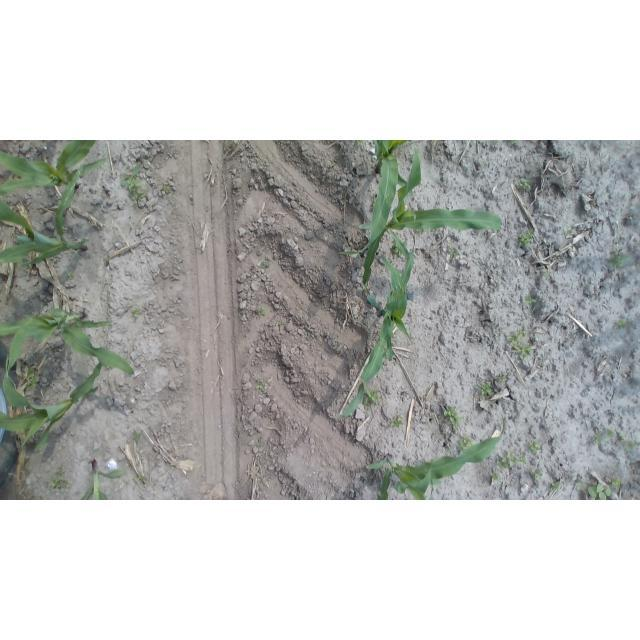Maize: (337, 145, 504, 257), (331, 226, 417, 422), (365, 413, 506, 500), (0, 356, 108, 454), (1, 306, 140, 379), (0, 163, 92, 262), (359, 140, 413, 286), (1, 140, 112, 193), (74, 454, 126, 500)
Weeds: (119, 164, 149, 205), (509, 329, 533, 360), (496, 450, 528, 470), (50, 468, 74, 492), (514, 229, 538, 252), (443, 405, 466, 429), (23, 365, 42, 394), (609, 247, 632, 270), (363, 387, 383, 409), (586, 484, 610, 501), (512, 174, 534, 192), (455, 434, 473, 453), (477, 381, 495, 398), (386, 413, 406, 428), (448, 244, 461, 264), (616, 317, 632, 333), (391, 243, 408, 258), (159, 183, 174, 199), (527, 439, 544, 453), (254, 376, 268, 392), (626, 439, 640, 454), (520, 294, 536, 307), (487, 472, 503, 485), (608, 477, 624, 489), (258, 256, 270, 272), (528, 467, 542, 480), (130, 306, 143, 319), (254, 305, 268, 317), (495, 375, 510, 386), (66, 270, 79, 282), (136, 473, 149, 485), (592, 433, 604, 445), (540, 267, 553, 278), (577, 478, 588, 491), (550, 480, 563, 491), (255, 437, 266, 450), (133, 430, 144, 443), (605, 428, 616, 440), (276, 317, 287, 328), (303, 330, 313, 342), (617, 432, 626, 445), (505, 140, 519, 148), (479, 160, 489, 169), (566, 228, 575, 238), (179, 495, 193, 500), (356, 141, 367, 146)
